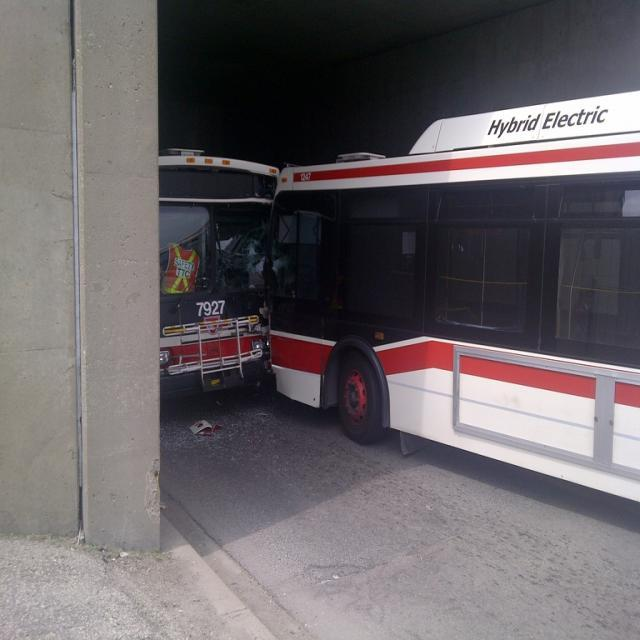motorcycle: (262, 90, 640, 502), (156, 145, 282, 394)
